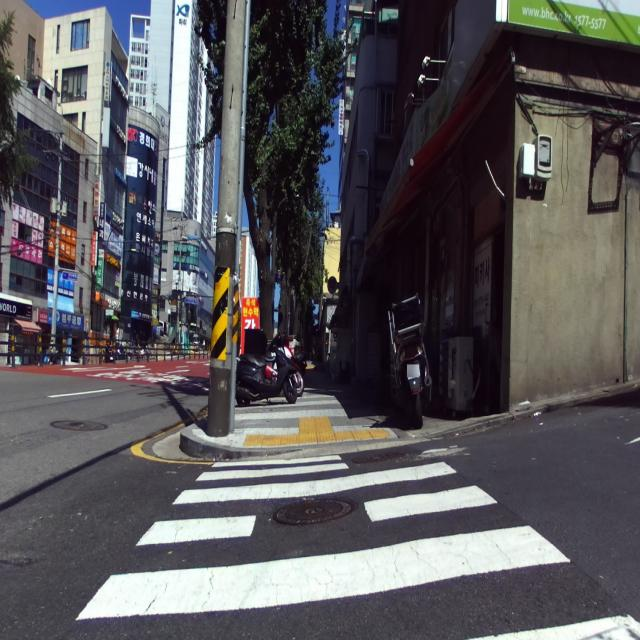횡단보도: (74, 454, 640, 640)
